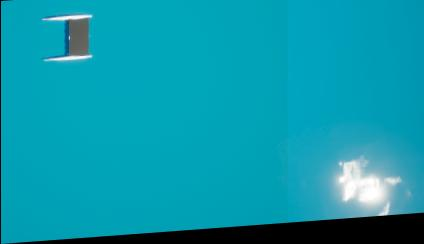boat: (40, 12, 94, 63)
drone: (67, 20, 88, 55)
land_base: (320, 152, 419, 225)
